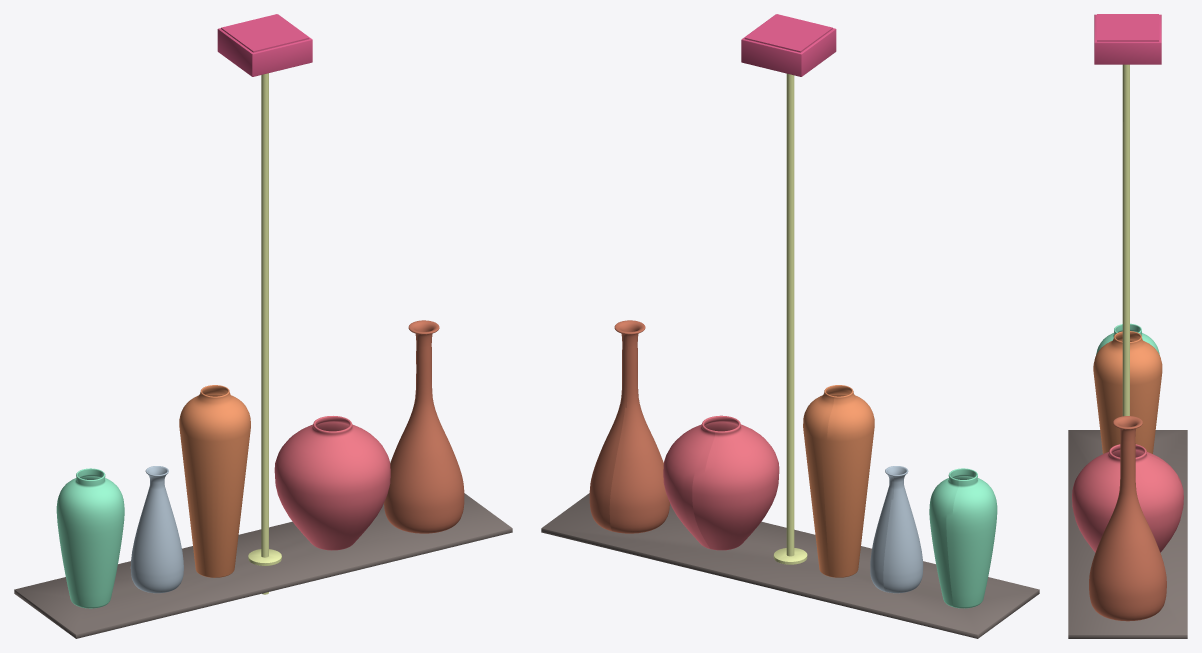
3 views of the same model, side by side, from view 1: azimuth 30°, elevation 25°; view 2: azimuth 150°, elevation 25°; view 3: azimuth 270°, elevation 25° (orthographic). The views are drawn at different scales.
Parts seen in each view (by area): view 1: Cicatrices De Luxe17_glass_cty_0, split_parent_4, split_parent_3, split_parent_0, split_parent_1, split_parent_2, Cicatrices De Luxe16_Steel | Stainless_0, split_parent_13; view 2: Cicatrices De Luxe17_glass_cty_0, split_parent_4, split_parent_3, split_parent_0, split_parent_1, split_parent_13, split_parent_2, Cicatrices De Luxe16_Steel | Stainless_0; view 3: Cicatrices De Luxe17_glass_cty_0, split_parent_0, split_parent_4, split_parent_3, Cicatrices De Luxe16_Steel | Stainless_0, split_parent_13, split_parent_1.
Boxes of the visible parts, box(x1,y1,x2,y2) form: Cicatrices De Luxe17_glass_cty_0: box(14, 493, 512, 638); split_parent_4: box(274, 416, 390, 550); split_parent_3: box(179, 385, 250, 577); split_parent_0: box(384, 320, 464, 533); split_parent_1: box(56, 468, 124, 608); split_parent_2: box(130, 466, 183, 593); Cicatrices De Luxe16_Steel | Stainless_0: box(217, 14, 312, 76); split_parent_13: box(248, 73, 281, 594); Cicatrices De Luxe17_glass_cty_0: box(541, 493, 1039, 638); split_parent_4: box(663, 415, 779, 550); split_parent_3: box(803, 385, 874, 577); split_parent_0: box(589, 320, 669, 533); split_parent_1: box(929, 468, 997, 608); split_parent_13: box(773, 73, 807, 593); split_parent_2: box(870, 466, 923, 593); Cicatrices De Luxe16_Steel | Stainless_0: box(741, 14, 836, 76); Cicatrices De Luxe17_glass_cty_0: box(1068, 430, 1187, 638); split_parent_0: box(1089, 416, 1166, 621); split_parent_4: box(1072, 444, 1183, 552); split_parent_3: box(1093, 331, 1162, 453); Cicatrices De Luxe16_Steel | Stainless_0: box(1094, 14, 1161, 64); split_parent_13: box(1122, 64, 1129, 416); split_parent_1: box(1096, 323, 1159, 355).
Size of the model in its own units: 0.8167 by 1 by 0.2006.
